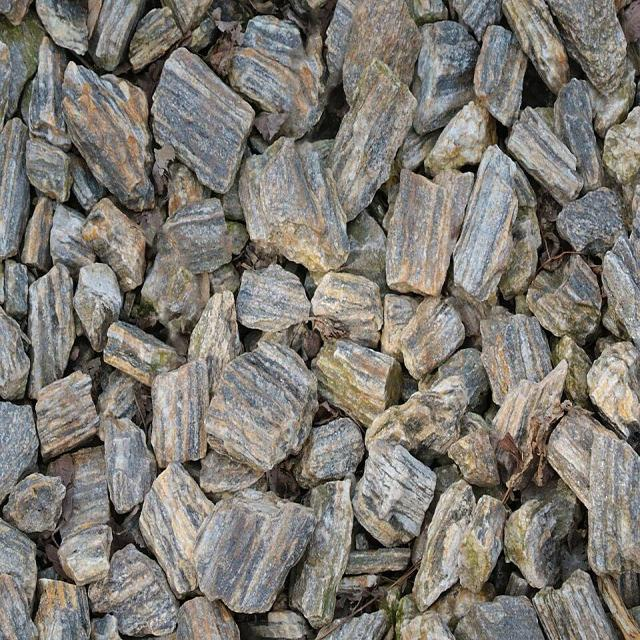Pecahan Agregat: (7, 230, 640, 640), (133, 34, 275, 204)
